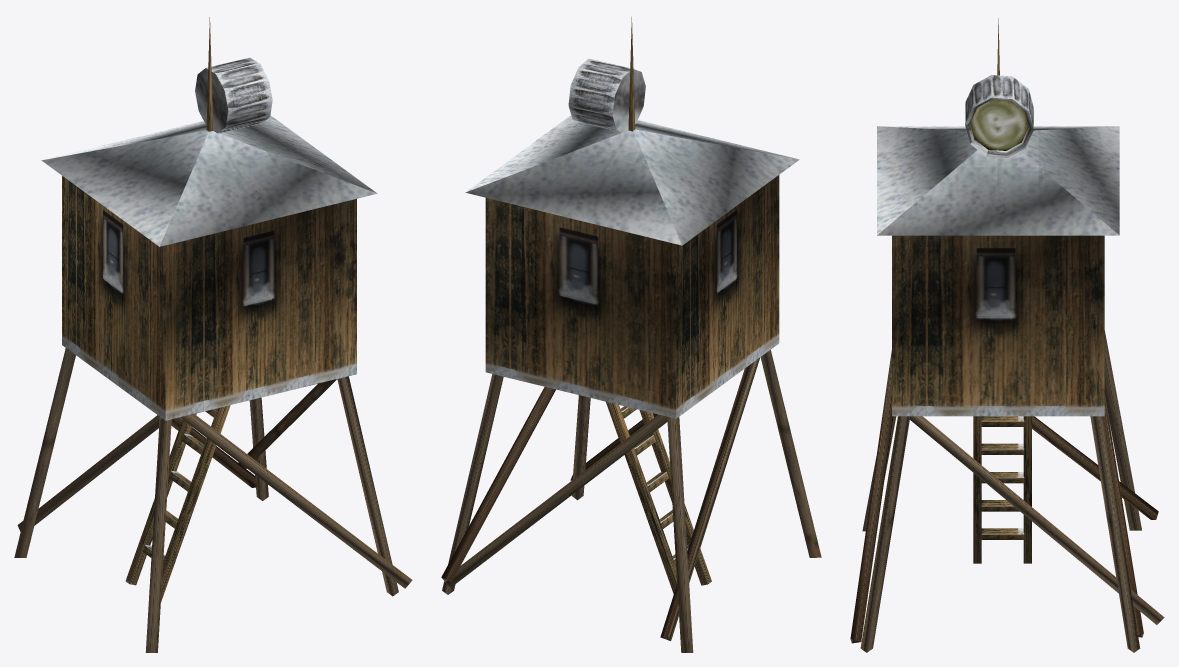
File: Environment - Prop - TOWER SN - Snow and Night - PMTOWER_SN.glb
3 views of the same model, side by side, from view 1: azimuth 30°, elevation 25°; view 2: azimuth 150°, elevation 25°; view 3: azimuth 270°, elevation 25° (orthographic). The views are drawn at different scales.
Parts seen in each view (by area): view 1: PMTOWER_SN; view 2: PMTOWER_SN; view 3: PMTOWER_SN.
Boxes of the visible parts, <box> form: PMTOWER_SN: <box>14,17,412,652</box>; PMTOWER_SN: <box>441,17,821,652</box>; PMTOWER_SN: <box>850,18,1164,652</box>.
Bounding box in the file's own units: 25.53 × 53.19 × 26.09.
1 material, 1 textured.
